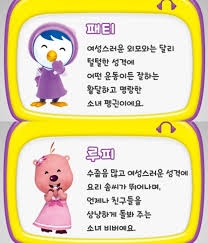Loopy: (31, 140, 75, 235)
Petty: (27, 22, 79, 108)
